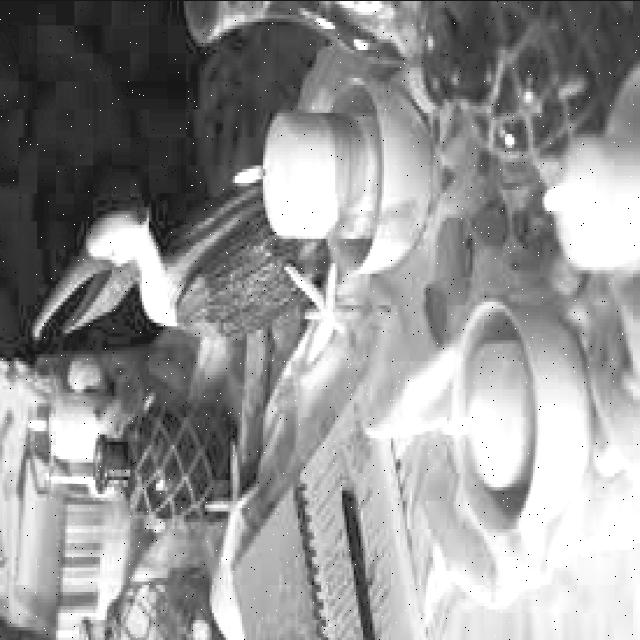api: (225, 151, 274, 211), (541, 173, 578, 229), (437, 400, 481, 446)
